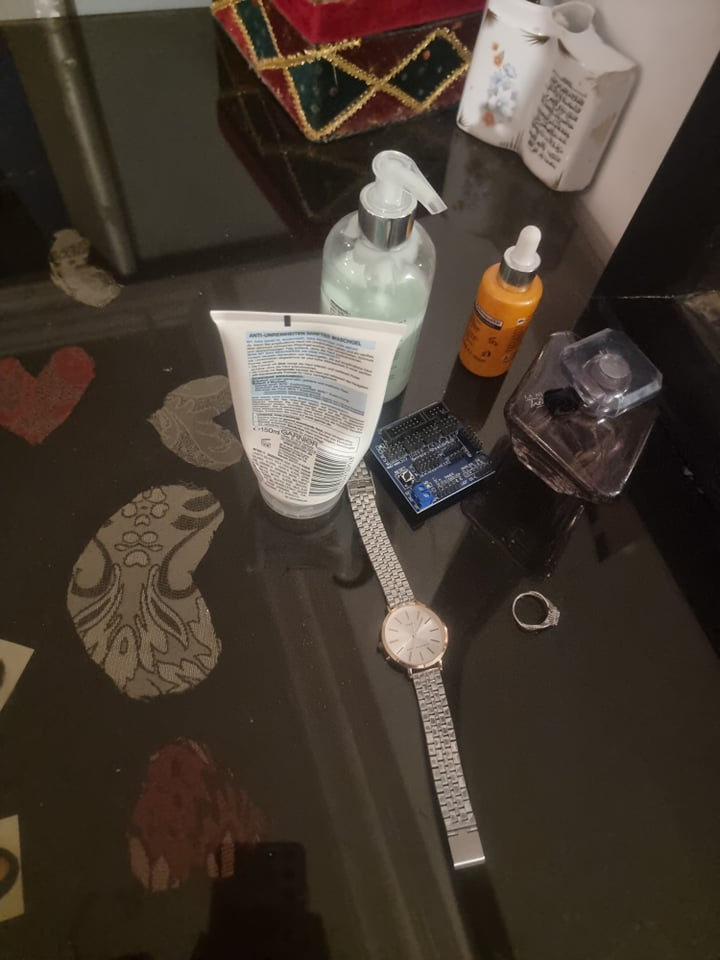5V EXPANSION: (373, 402, 495, 518)
